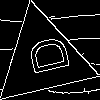D: (18, 34, 71, 79)
